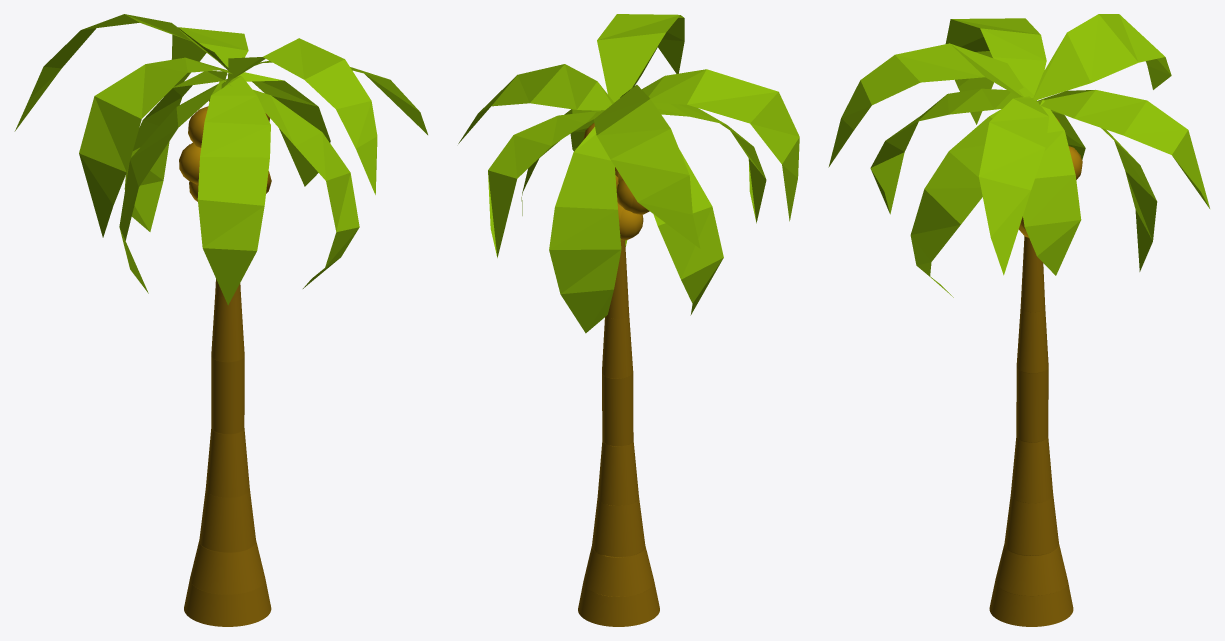
The model's file is lowPolyPalmV2.gltf.
The picture shows the model from 3 angles, left to right: view 1: azimuth 30°, elevation 25°; view 2: azimuth 150°, elevation 25°; view 3: azimuth 270°, elevation 25°; orthographic projection. The views are drawn at different scales.
Parts seen in each view (by area): view 1: (palm_tree_low_poly); view 2: (palm_tree_low_poly); view 3: (palm_tree_low_poly).
Part boxes in pixels (<box>): (palm_tree_low_poly): <box>14,14,427,626</box>; (palm_tree_low_poly): <box>458,14,799,626</box>; (palm_tree_low_poly): <box>828,14,1209,626</box>.
Bounding box in the file's own units: 0.2708 × 0.4373 × 0.2682.
